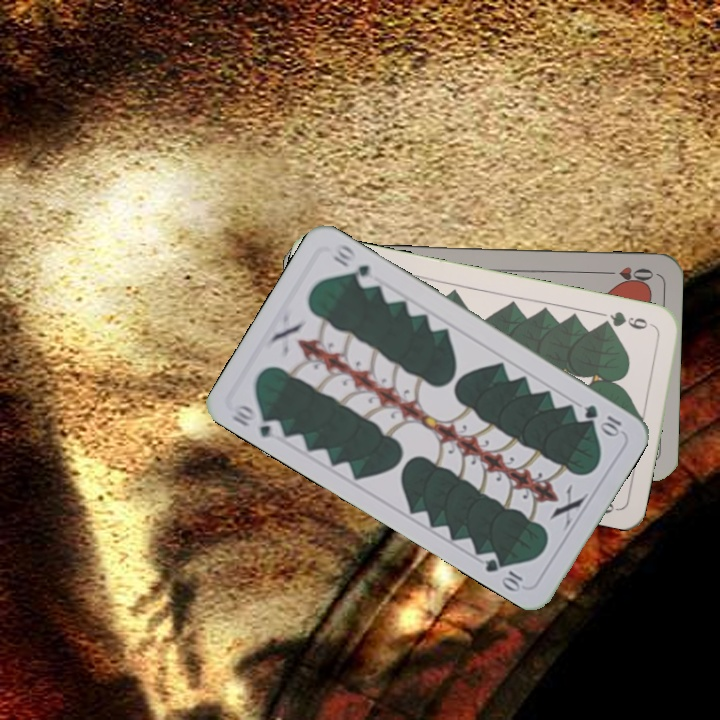G10: (228, 400, 286, 441), (580, 400, 626, 438)
G9: (597, 307, 657, 333)
HO: (598, 263, 656, 286)
